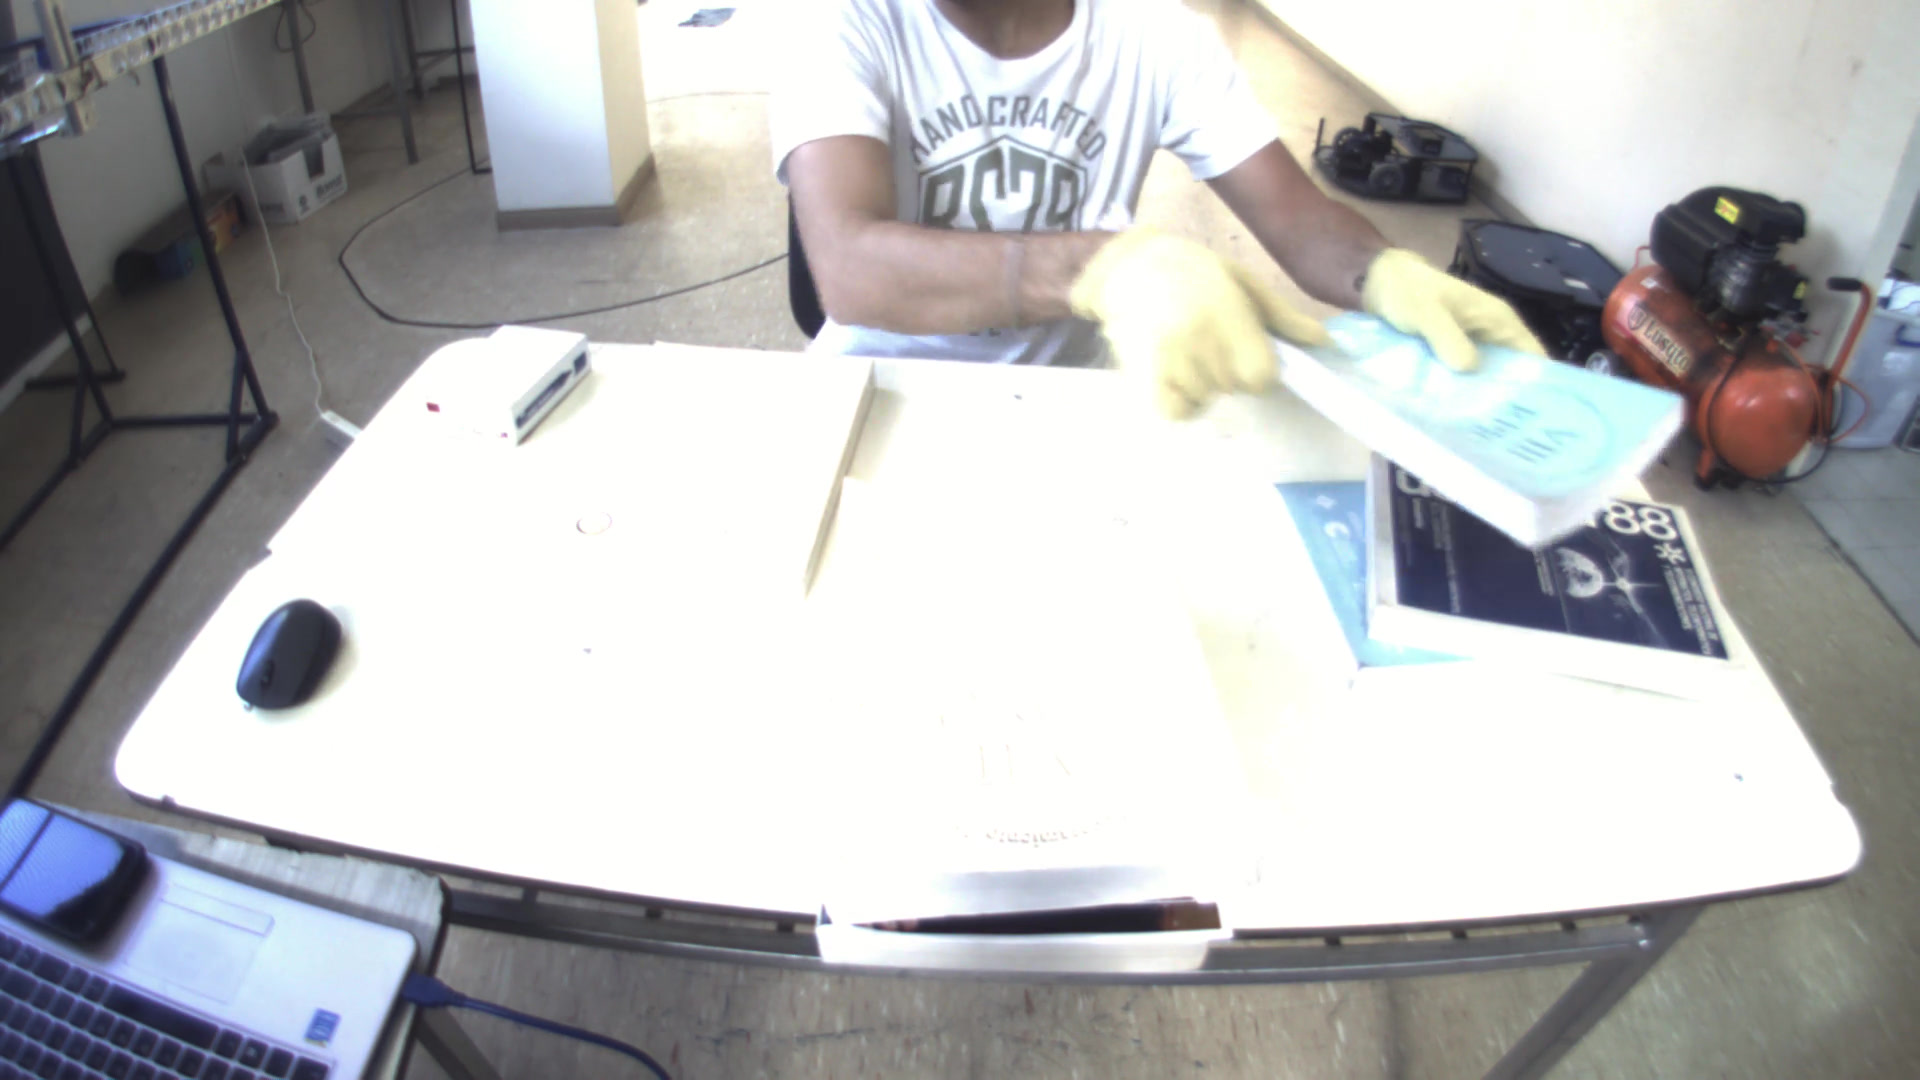hand: (1064, 218, 1327, 417), (1367, 232, 1539, 365)
